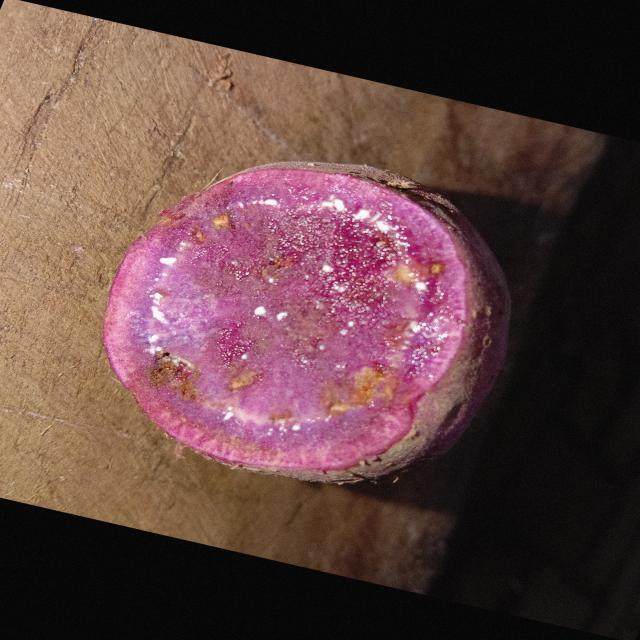Sick Sweet Potato_Tuber Rot: (105, 169, 467, 470)
